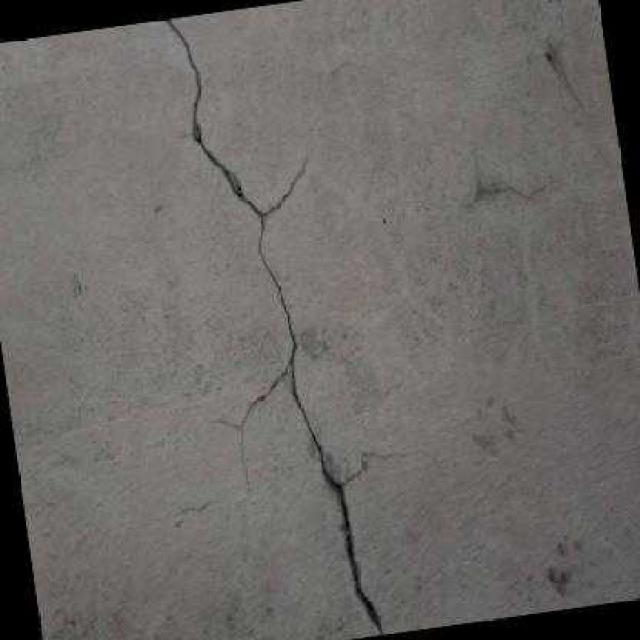D00: (163, 17, 387, 635)
